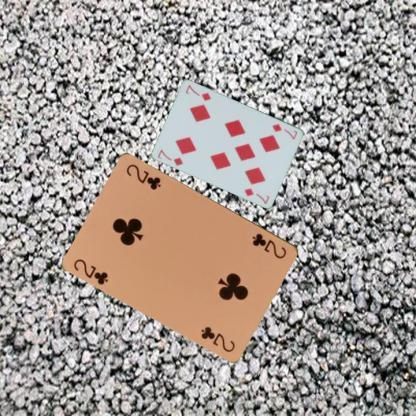2c: (71, 256, 110, 286), (250, 230, 288, 260)
7d: (155, 147, 185, 167), (270, 121, 299, 141)
